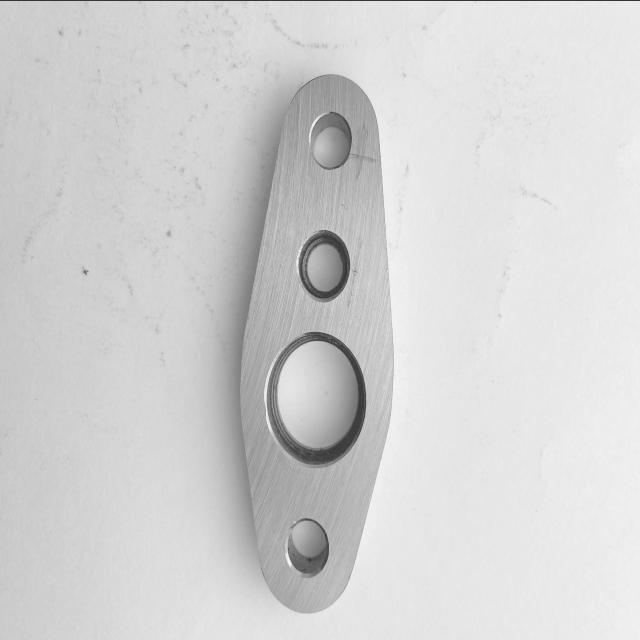lines: (346, 236, 364, 312), (356, 120, 370, 194), (351, 150, 378, 178), (339, 200, 348, 212)
